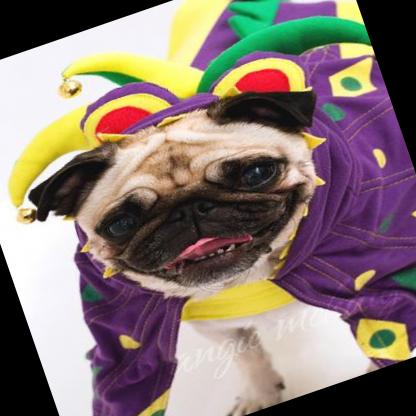pug: (15, 50, 416, 416)
